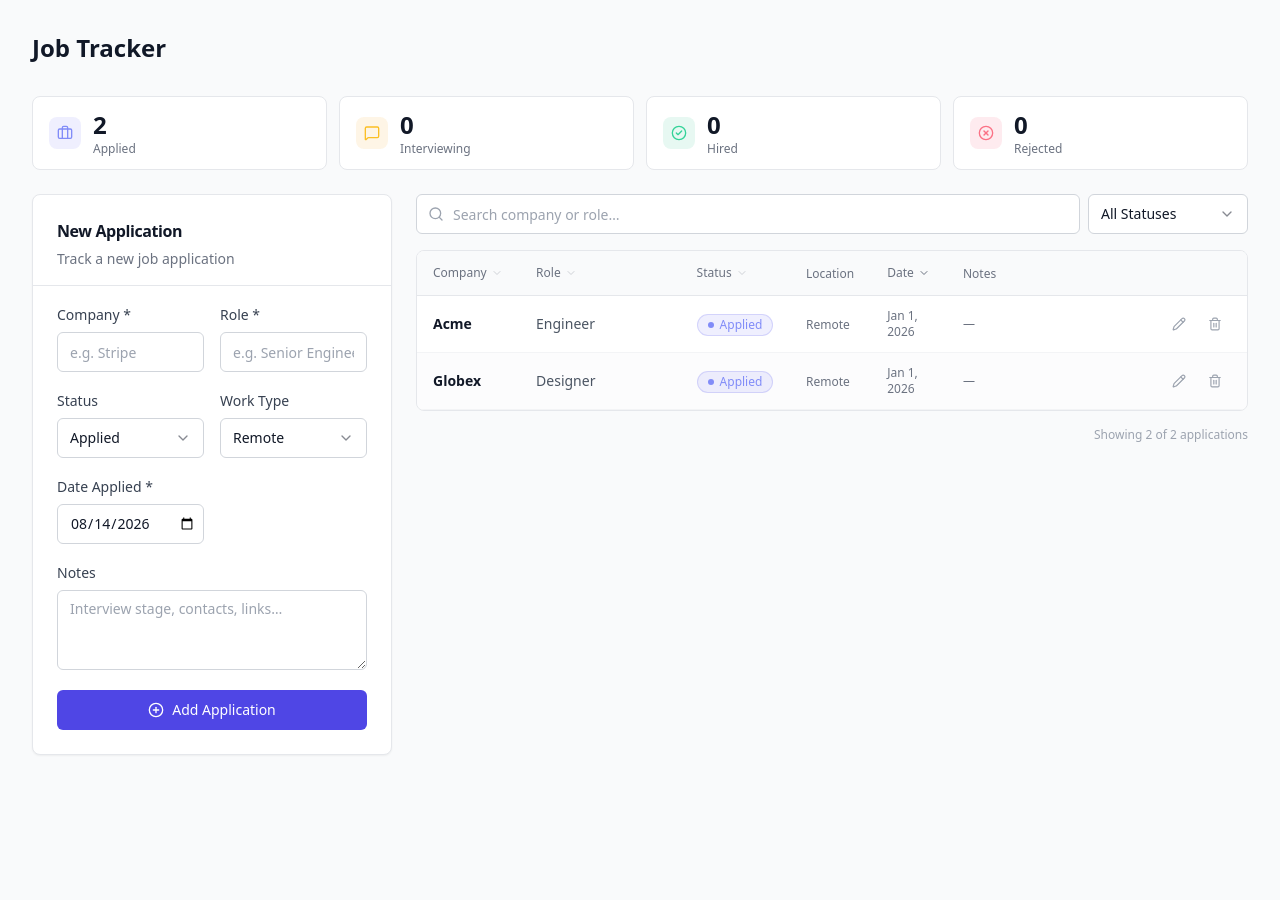
Test case: App › switches to edit mode, updates an application, and exits edit mode on success
Click the button named "Edit Acme — Engineer" at (1179, 324), box [1163, 308, 1195, 340]
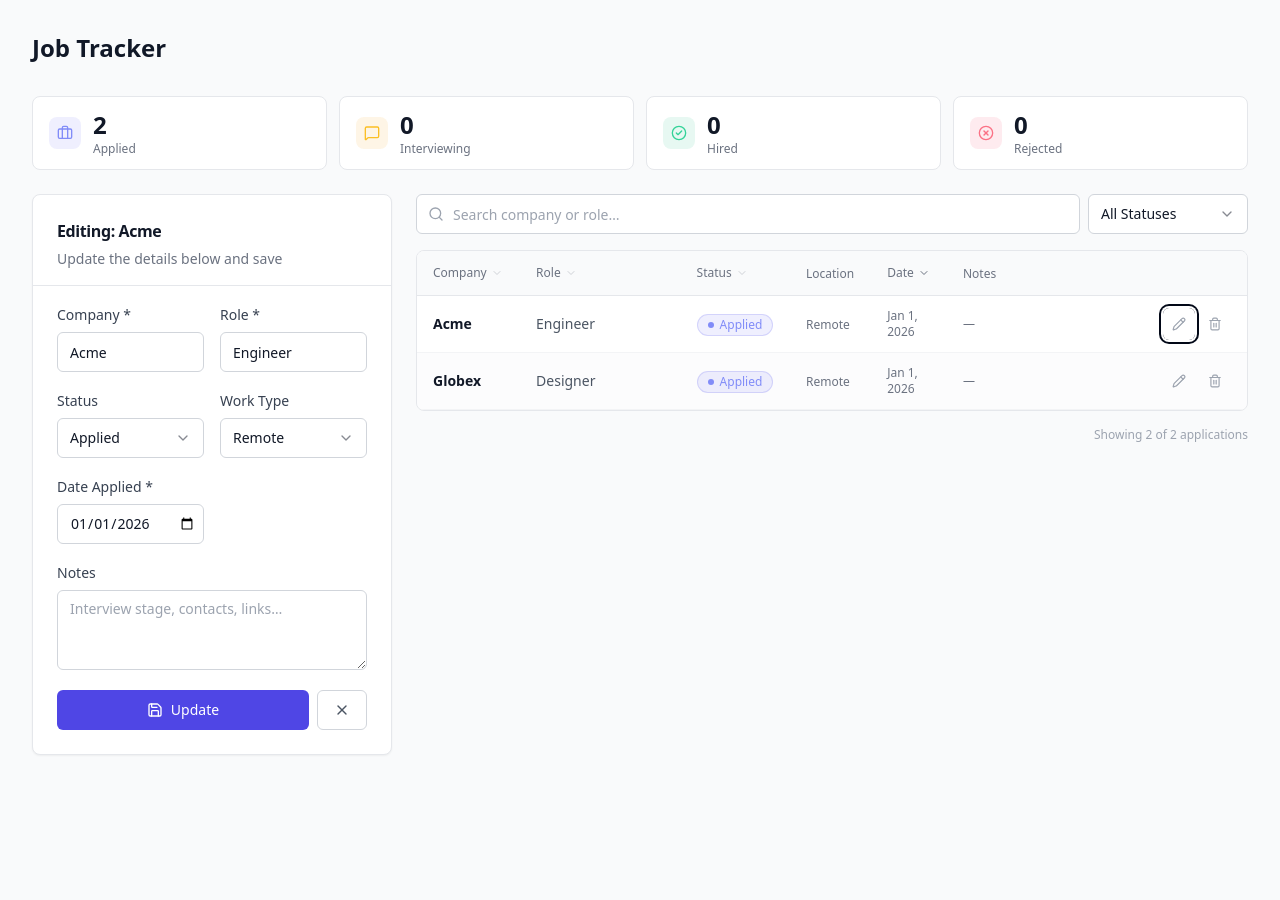
Expected: the heading "Editing: Acme" is shown, [57, 220, 161, 242]
Replace the text in the field with placeholder "e.g. Stripe" with "Acme Updated" at (130, 352), box [57, 332, 204, 372]
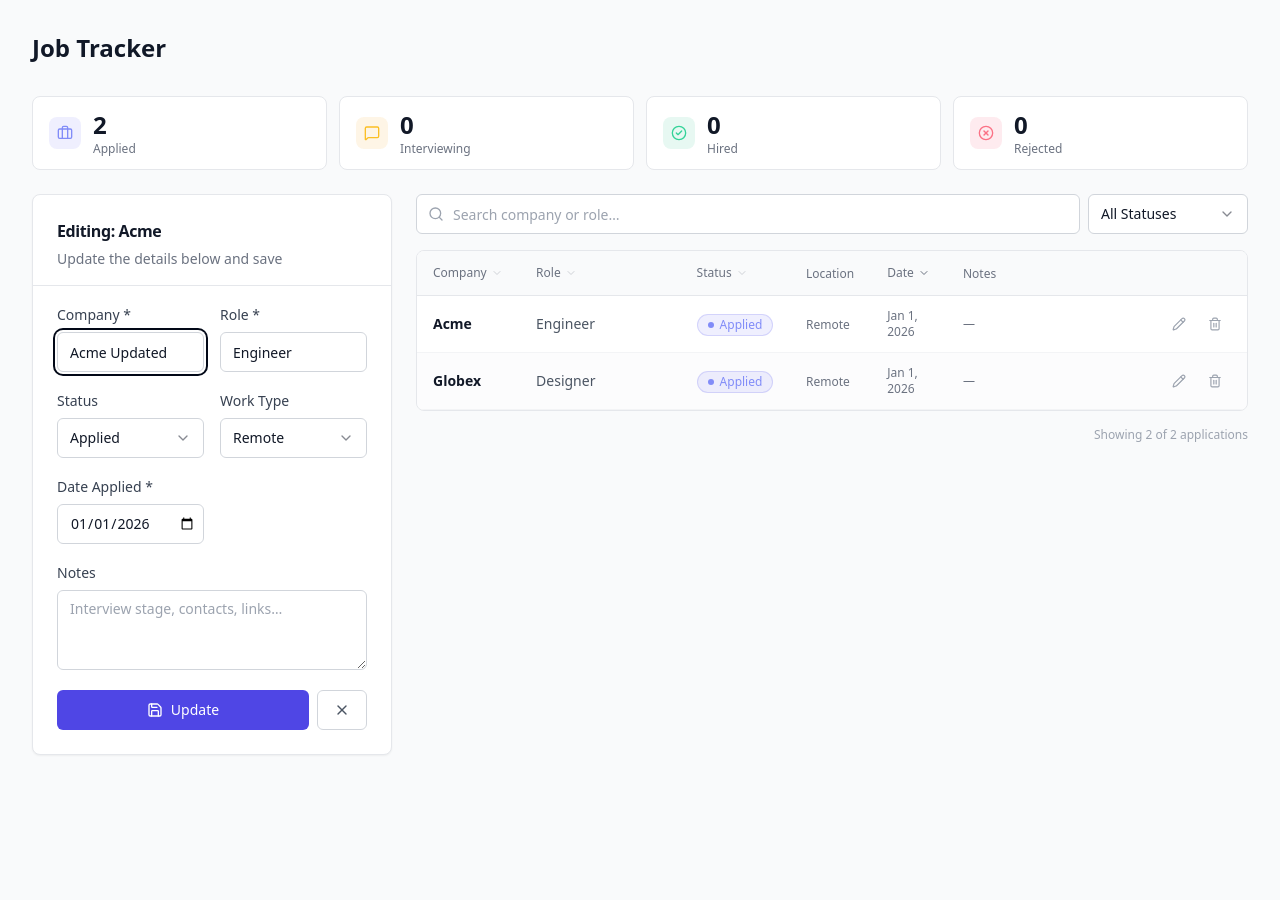
Click the button "Update" at (183, 710), box [57, 690, 309, 730]
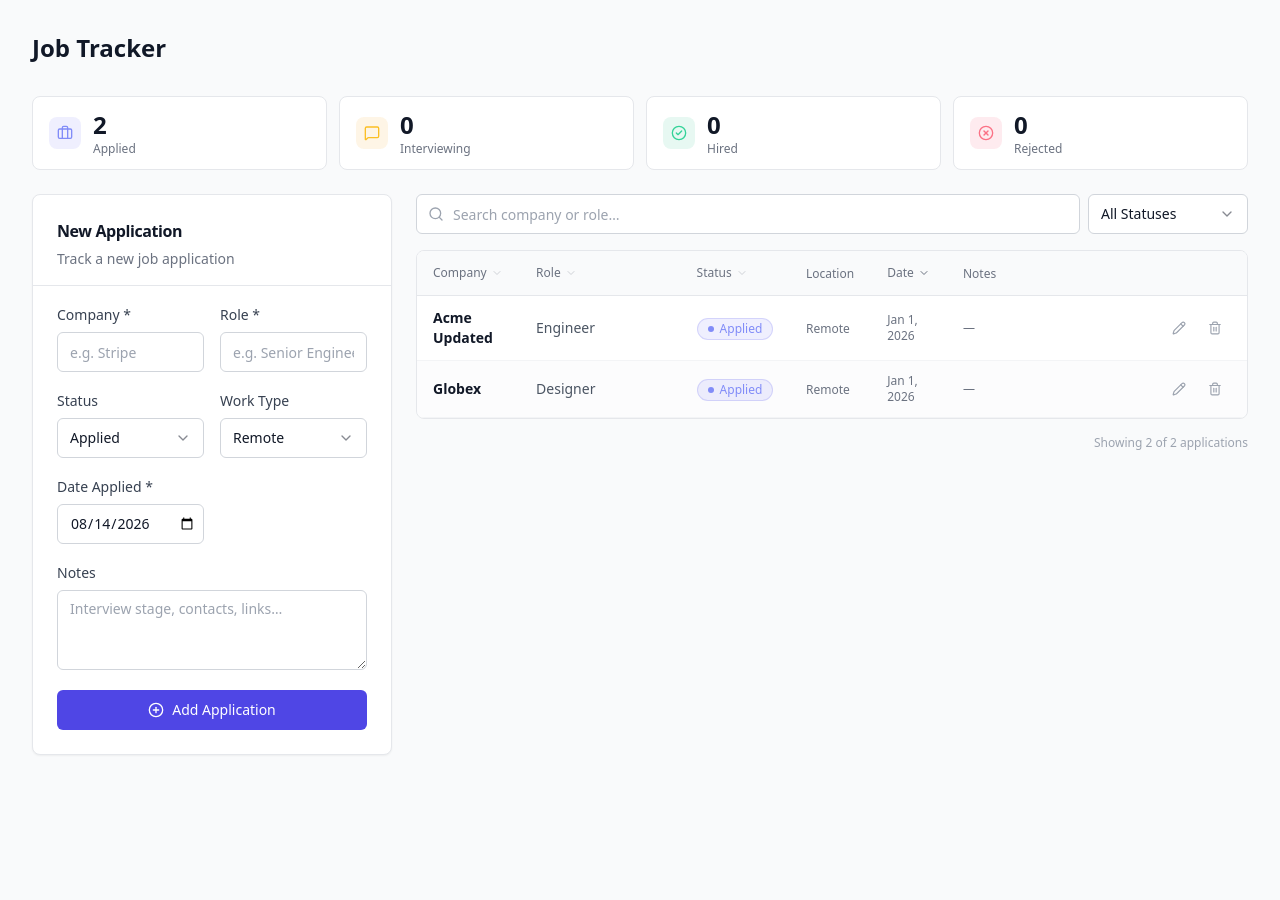
Expected: the text "Acme Updated" is shown, [417, 296, 520, 360]
Expected: the heading "New Application" is shown, [57, 220, 182, 242]
